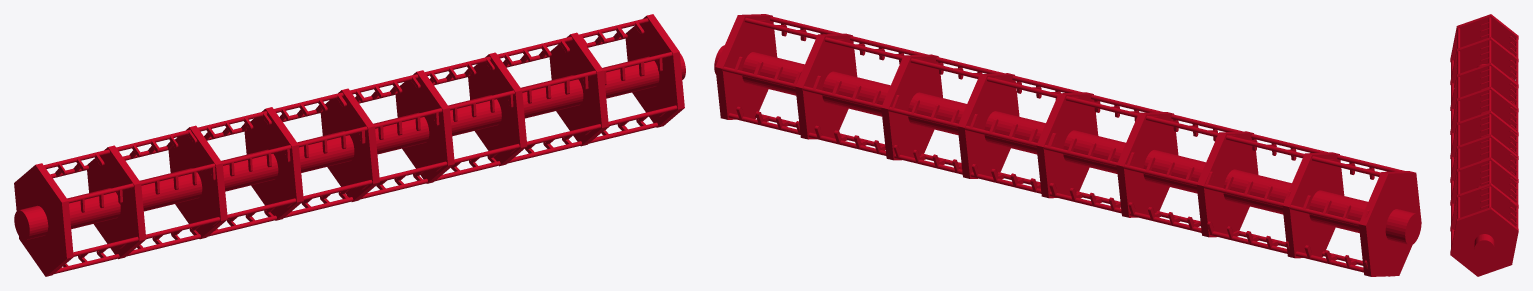
File: headerAnim.fbx
3 renders of one model, left to right at view 1: azimuth 30°, elevation 25°; view 2: azimuth 150°, elevation 25°; view 3: azimuth 270°, elevation 25°, orthographic. The views are drawn at different scales.
Parts seen in each view (by area): view 1: Cylinder.012; view 2: Cylinder.012; view 3: Cylinder.012.
Boxes of the visible parts, x1,y1,x2,y2 form: Cylinder.012: [14, 14, 685, 276]; Cylinder.012: [714, 14, 1421, 276]; Cylinder.012: [1450, 14, 1518, 276].
Size of the model in its own units: 1720 by 262 by 240.
